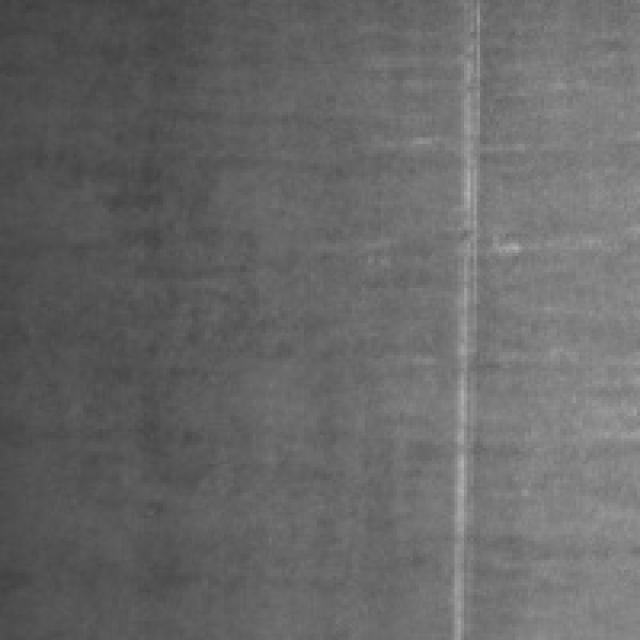scratches: (442, 0, 483, 634)
